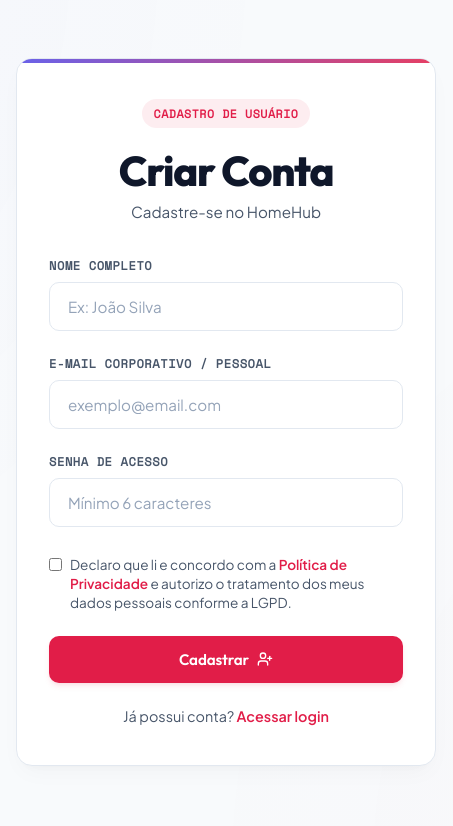
Test: Register Page Component › deve exigir que o usuário aceite a Política de Privacidade
Type "João" into the field with placeholder "Ex: João Silva" at (226, 306), box [49,282,403,331]
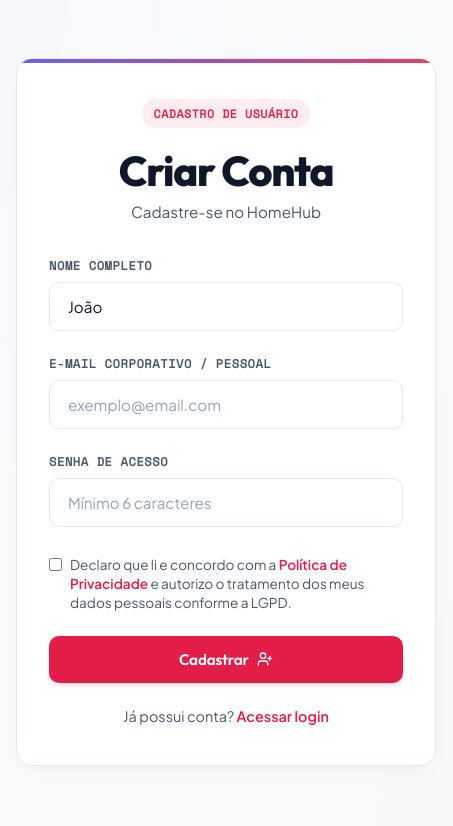
Type "joao@email.com" into the field with placeholder "exemplo@email.com" at (226, 404), box [49,380,403,429]
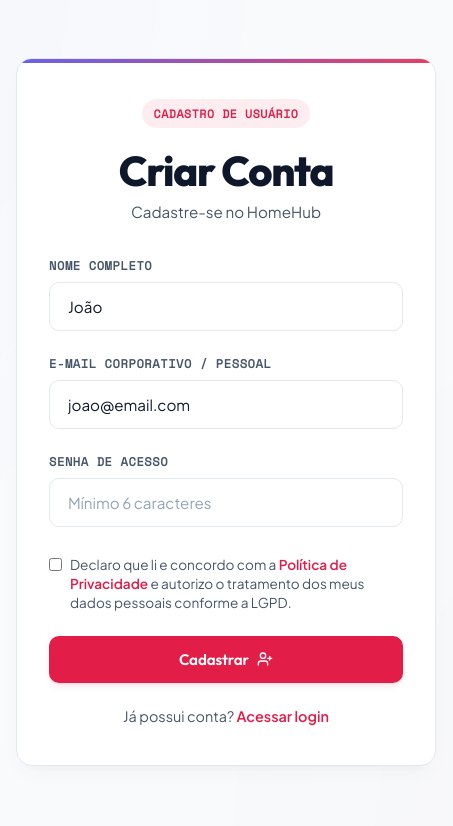
Type "senha123" into the password field with placeholder "Mínimo 6 caracteres" at (226, 502), box [49,478,403,527]
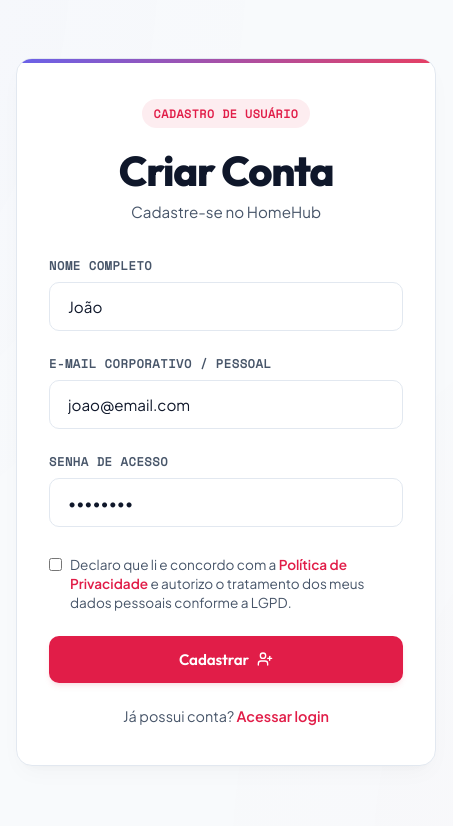
Click the button "Cadastrar" at (226, 659), box [49,636,403,683]
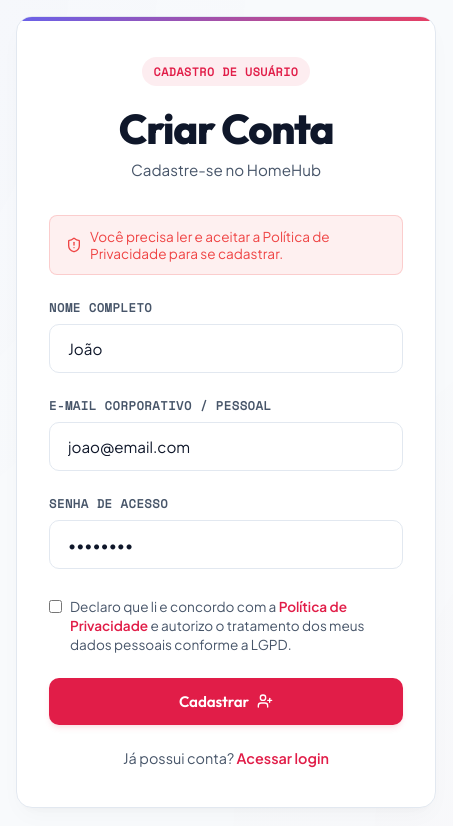
Now the text "Você precisa ler e aceitar a Política de Privacidade" is shown, box [90,228,330,262]
